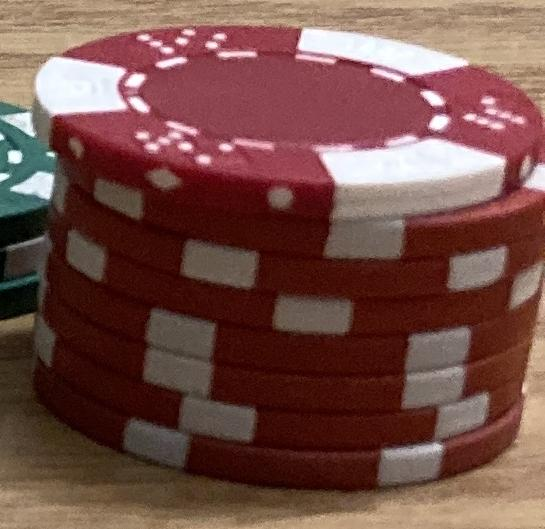Chip: (2, 1, 545, 529)
